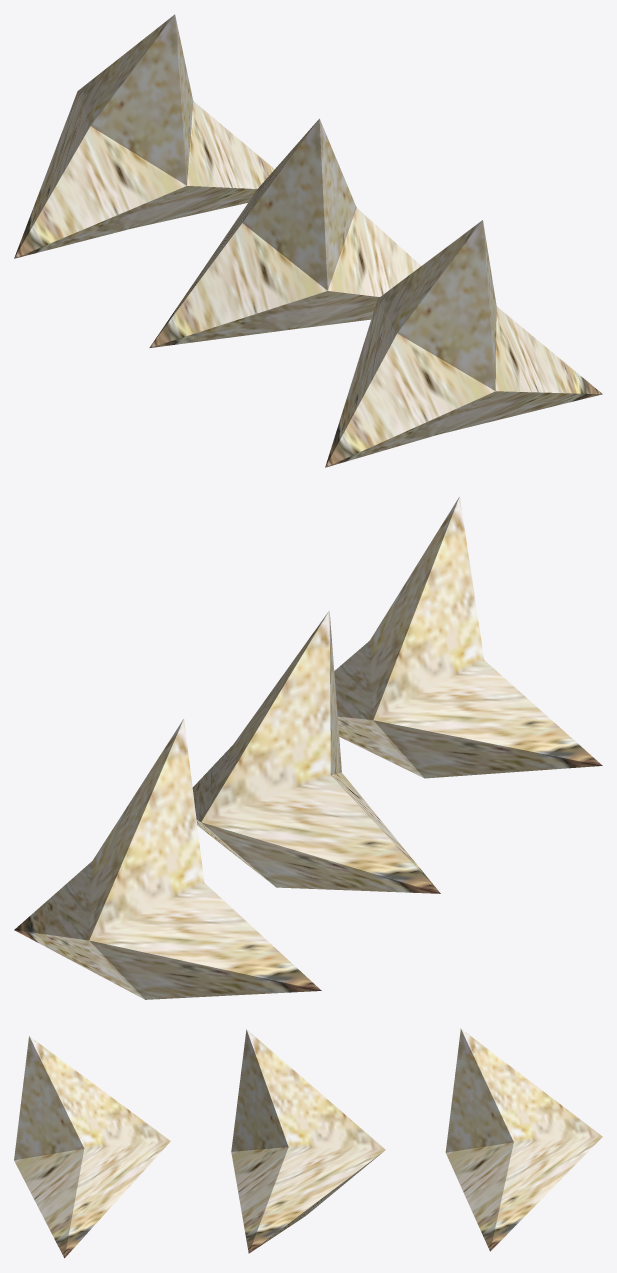
Rendered from poi_tato_skel_grtr_krayt_spine_s02_l2.fbx.
3 views of the same model, one above another, from view 1: azimuth 30°, elevation 25°; view 2: azimuth 150°, elevation 25°; view 3: azimuth 270°, elevation 25° (orthographic). The views are drawn at different scales.
Visible parts, largest first — view 1: mesh_node; view 2: mesh_node; view 3: mesh_node.
Part boxes in pixels (<box>): mesh_node: <box>14,14,602,467</box>; mesh_node: <box>14,496,602,999</box>; mesh_node: <box>14,1028,602,1258</box>.
Size of the model in its own units: 1.73 by 1.29 by 3.78.
Materials: 1 (1 with a texture image).
